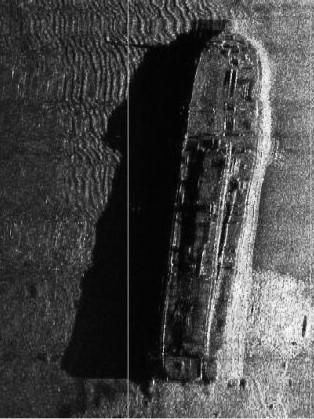ship: (162, 22, 272, 385)
